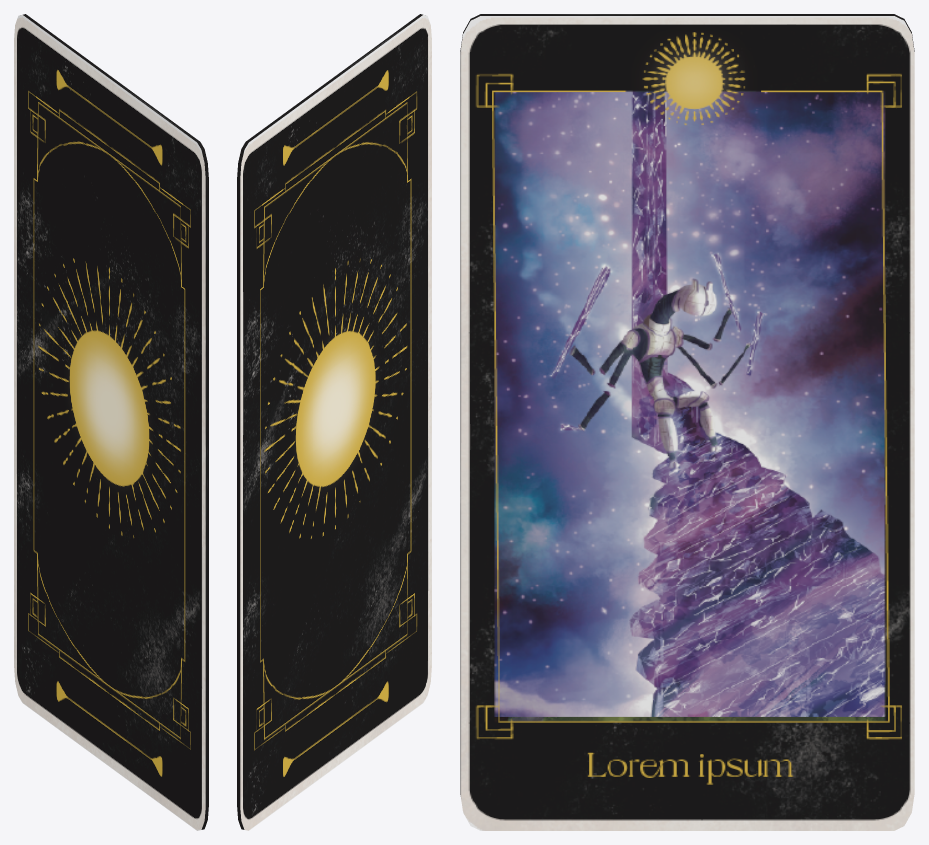
The model's file is sword_7.gltf.
3 renders of one model, left to right at view 1: azimuth 30°, elevation 25°; view 2: azimuth 150°, elevation 25°; view 3: azimuth 270°, elevation 25°, orthographic. The views are drawn at different scales.
Parts seen in each view (by area): view 1: Cube.002; view 2: Cube.002; view 3: Cube.002.
Part boxes in pixels (x1,y1,x2,y2): Cube.002: [14, 14, 208, 830]; Cube.002: [237, 14, 431, 830]; Cube.002: [460, 14, 914, 830].
Bounding box in the file's own units: 0.0191 × 3.96 × 2.
Materials: 1 (1 with a texture image).
